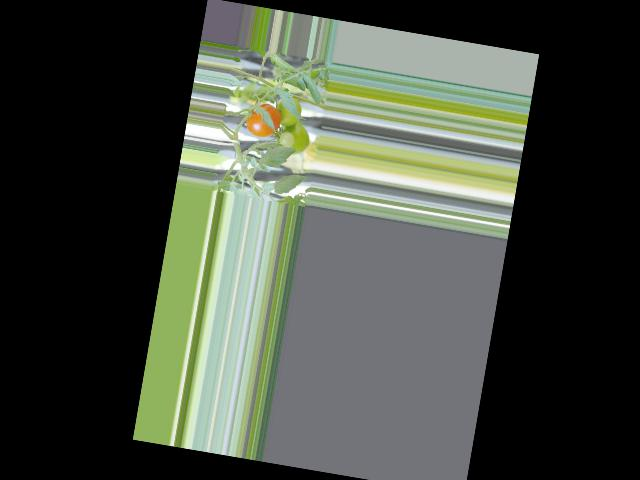tomato: (244, 101, 283, 140)
